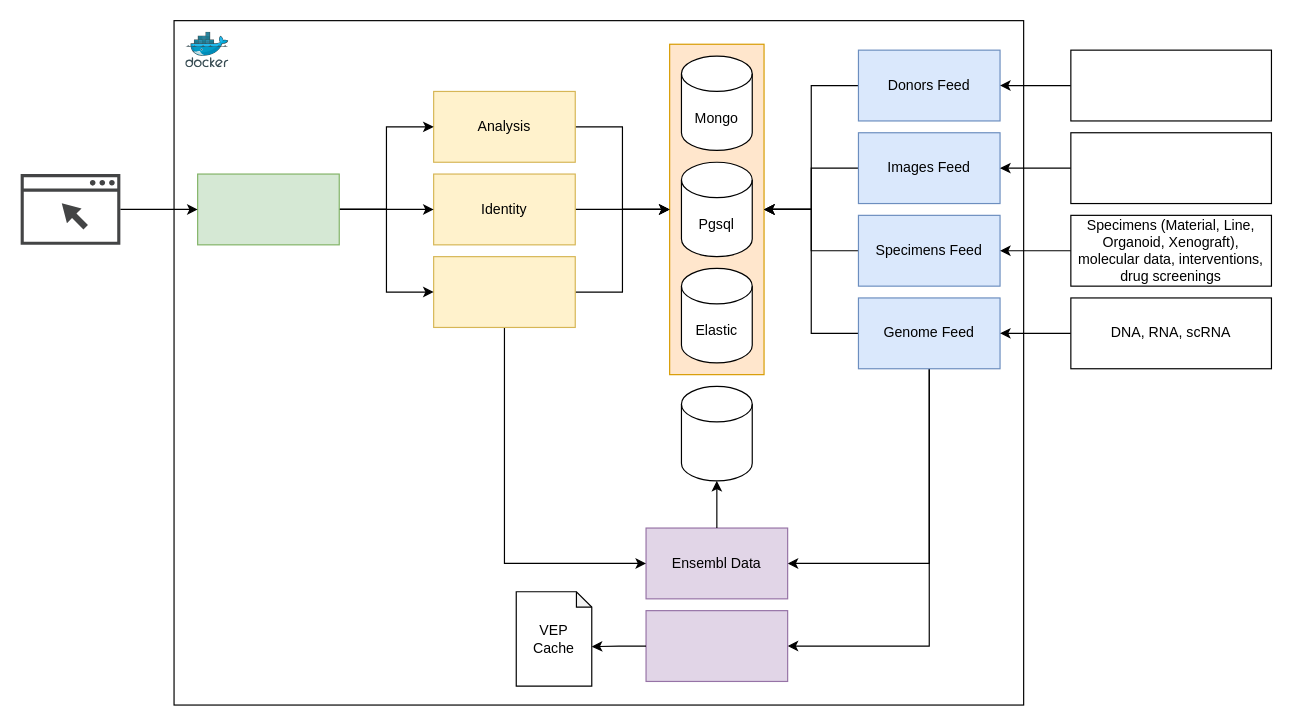
This 1292x726 diagram has some shape labels left out. The centre of each missing label's shape, as x and y in pixels:
Composer: the point at 503,291
Donors, clinical data, treatments: the point at 1170,85
Ensembl VEP: the point at 716,645
Images (MRI), radiomics features: the point at 1170,168
Mysql: the point at 716,433
Portal: the point at 267,209
